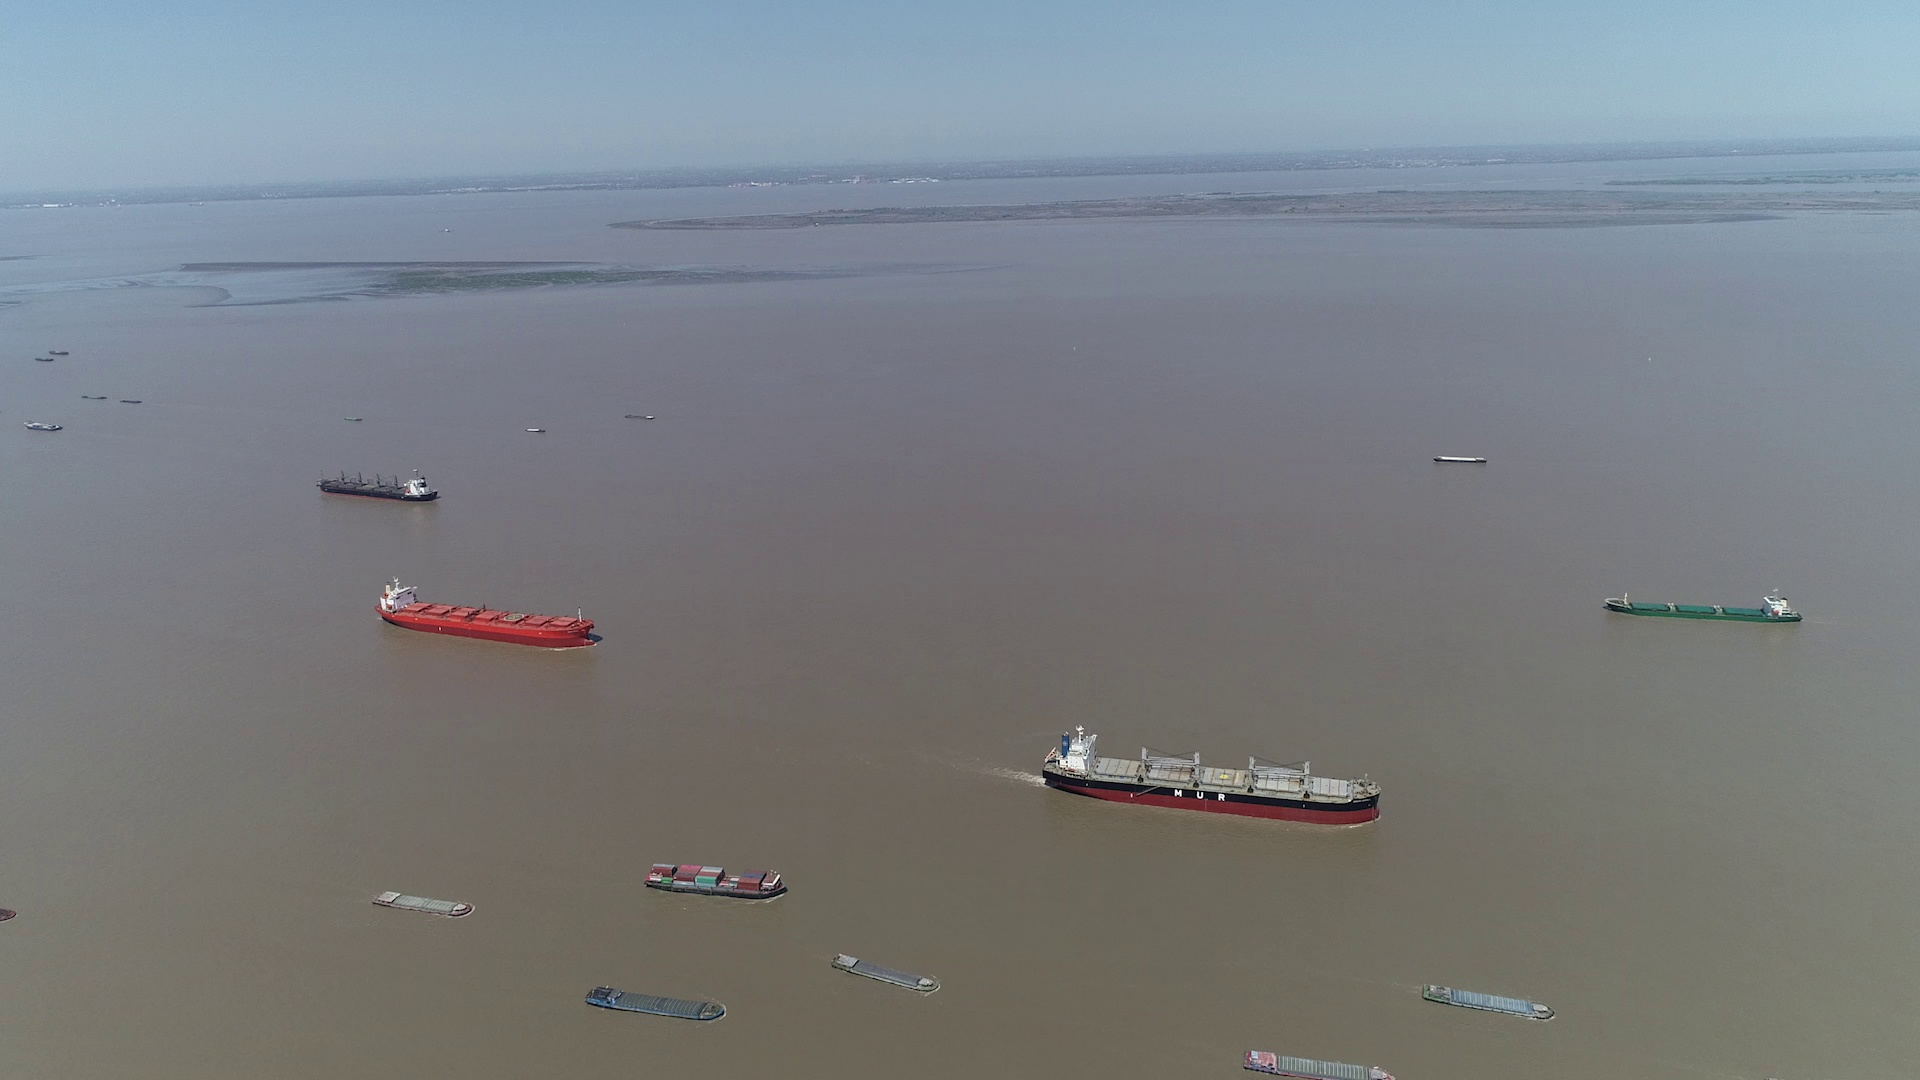ship: (1042, 728, 1381, 825), (376, 579, 595, 649), (1606, 592, 1803, 622), (645, 862, 787, 901), (585, 986, 725, 1025), (1425, 984, 1555, 1022), (829, 953, 942, 996), (1244, 1048, 1393, 1079), (319, 468, 439, 500), (373, 887, 469, 916), (1435, 455, 1487, 464), (26, 421, 65, 431)
